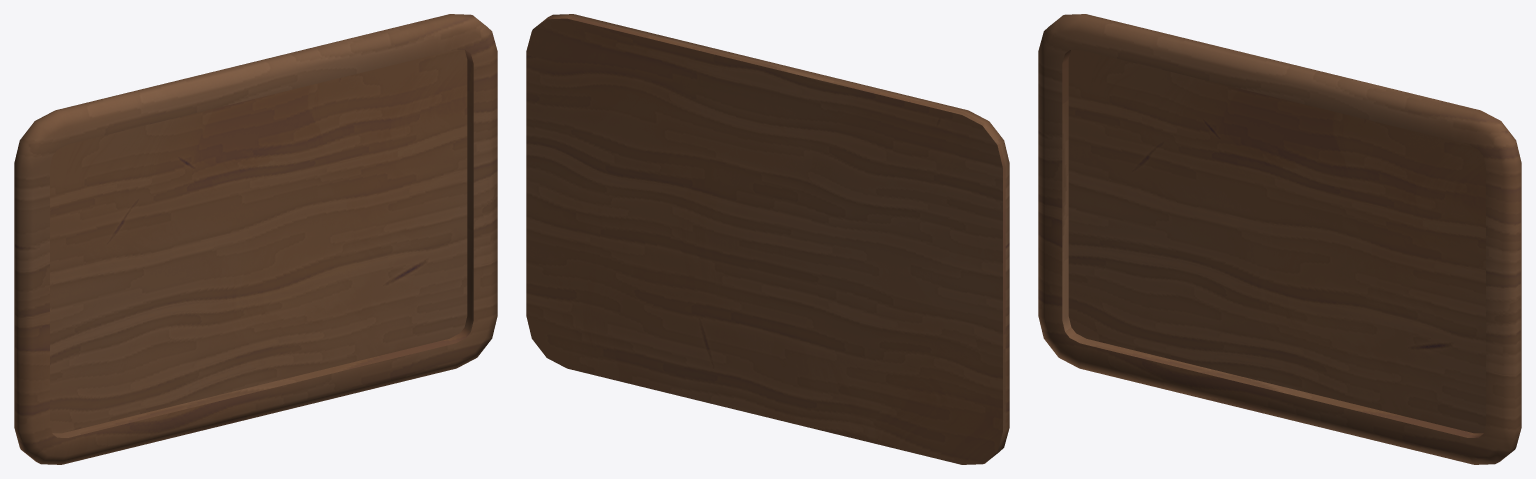
Rendered from workstation_display.glb.
3 views of the same model, side by side, from view 1: azimuth 30°, elevation 25°; view 2: azimuth 150°, elevation 25°; view 3: azimuth 330°, elevation 25° (orthographic).
Parts seen in each view (by area): view 1: SquareFrame.004; view 2: SquareFrame.004; view 3: SquareFrame.004.
Part boxes in pixels (x1=…): SquareFrame.004: x1=14, y1=14, x2=497, y2=464; SquareFrame.004: x1=526, y1=14, x2=1009, y2=464; SquareFrame.004: x1=1038, y1=14, x2=1521, y2=464.
Size of the model in its own units: 0.8841 by 0.6219 by 0.0295.
1 material, 1 textured.
